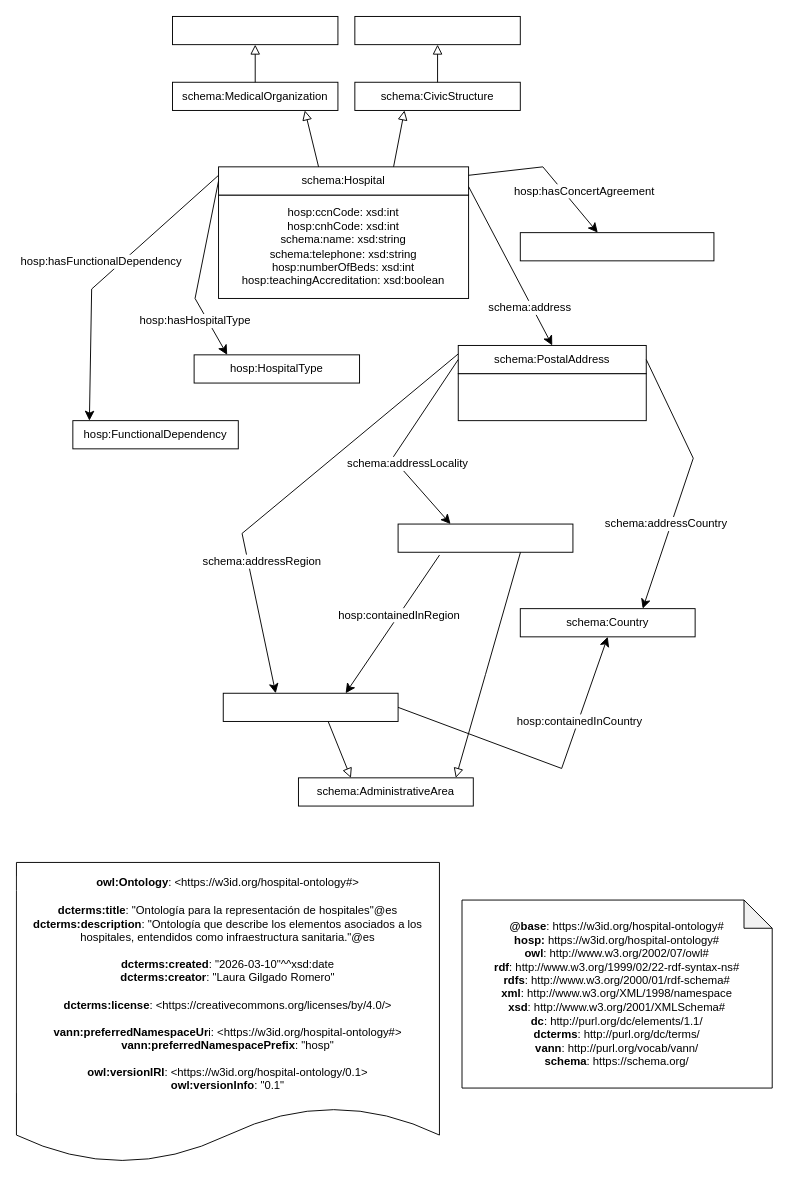
Some shapes in this 789 by 1180 pixel diagram are drawn without their labels. Here are the shapes that lost their labels. From the top down, the centre of each, then its label:
At pixel 255 30: "schema:Organization".
At pixel 437 30: "schema:Place".
At pixel 616 246: "hosp:ConcertAgreement".
At pixel 551 397: "schema:streetAddress: xsd:string schema:postalCode: xsd:string".
At pixel 485 537: "hosp:Municipality".
At pixel 310 706: "hosp:AutonomousCommunity".
